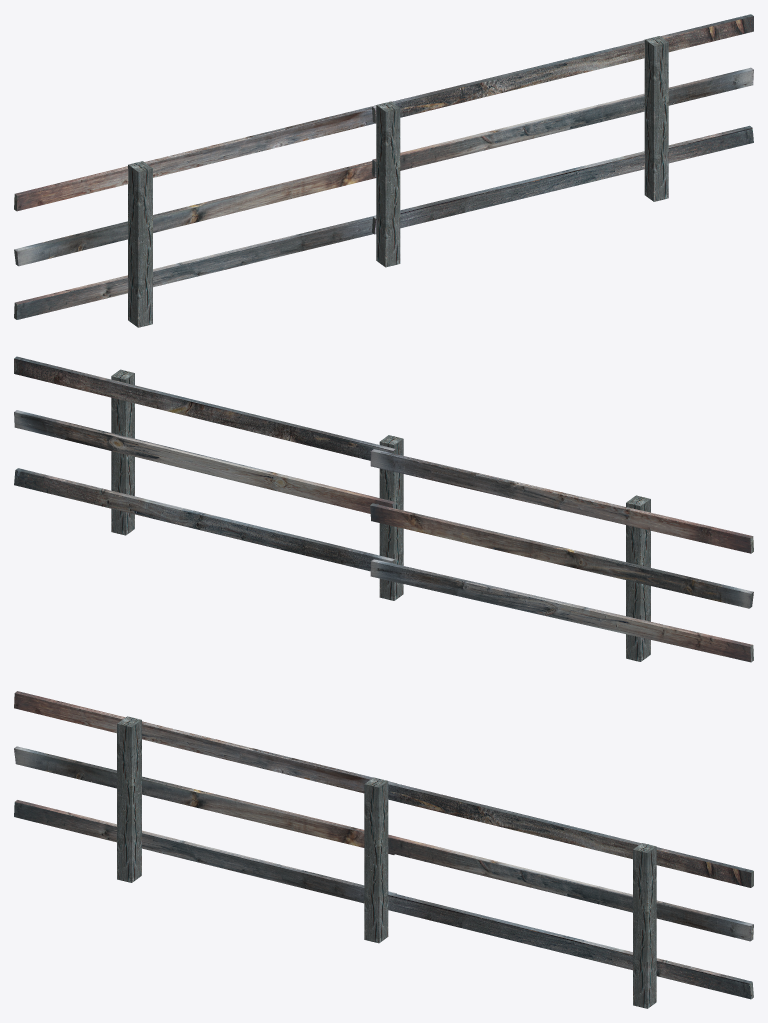
Rendered from WoodRailings.FBX.
The picture shows the model from 3 angles, top to bottom: view 1: azimuth 30°, elevation 25°; view 2: azimuth 150°, elevation 25°; view 3: azimuth 330°, elevation 25°; orthographic projection.
Visible parts, largest first — view 1: WoodRailings; view 2: WoodRailings; view 3: WoodRailings.
Boxes of the visible parts, x1=… form: WoodRailings: x1=14, y1=14, x2=753, y2=327; WoodRailings: x1=14, y1=356, x2=753, y2=662; WoodRailings: x1=14, y1=691, x2=753, y2=1008.
Size of the model in its own units: 59.74 by 12.06 by 2.1.
